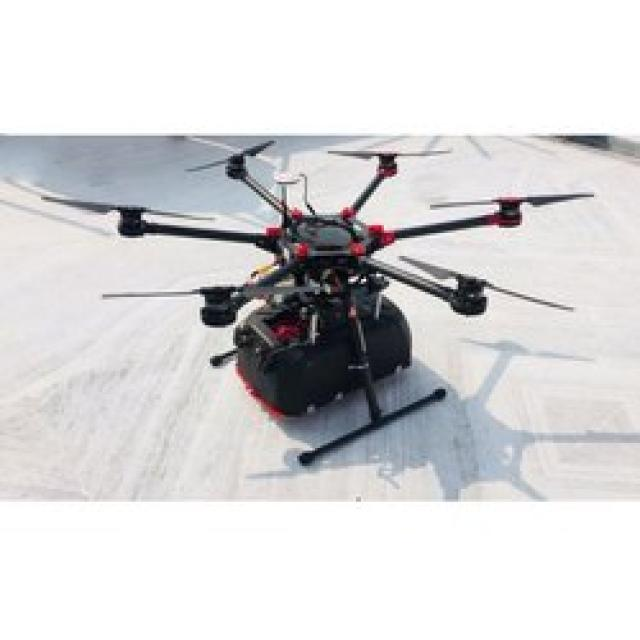drone: (48, 108, 601, 475)
